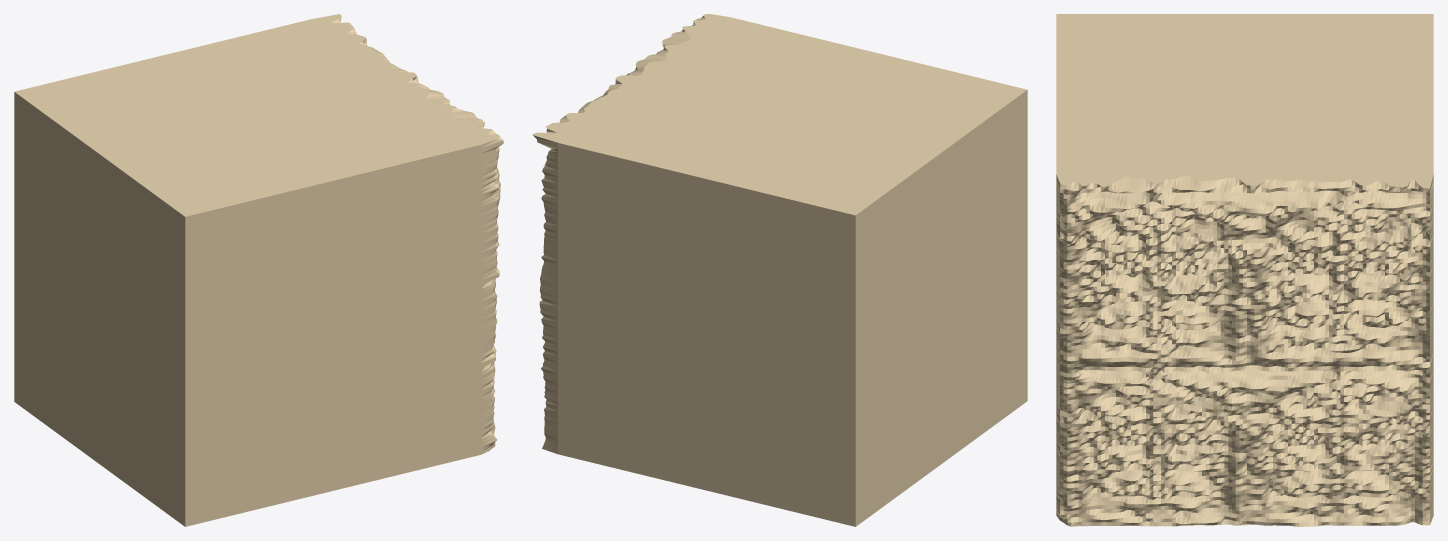
File: cross9.png.obj
The picture shows the model from 3 angles, left to right: view 1: azimuth 30°, elevation 25°; view 2: azimuth 150°, elevation 25°; view 3: azimuth 270°, elevation 25°; orthographic projection. The views are drawn at different scales.
Visible parts, largest first — view 1: Cube; view 2: Cube; view 3: Cube.
Part boxes in pixels (x1,y1,x2,y2): Cube: (14,14,503,526); Cube: (533,14,1027,526); Cube: (1056,14,1433,526).
Size of the model in its own units: 1.1 by 1 by 1.
